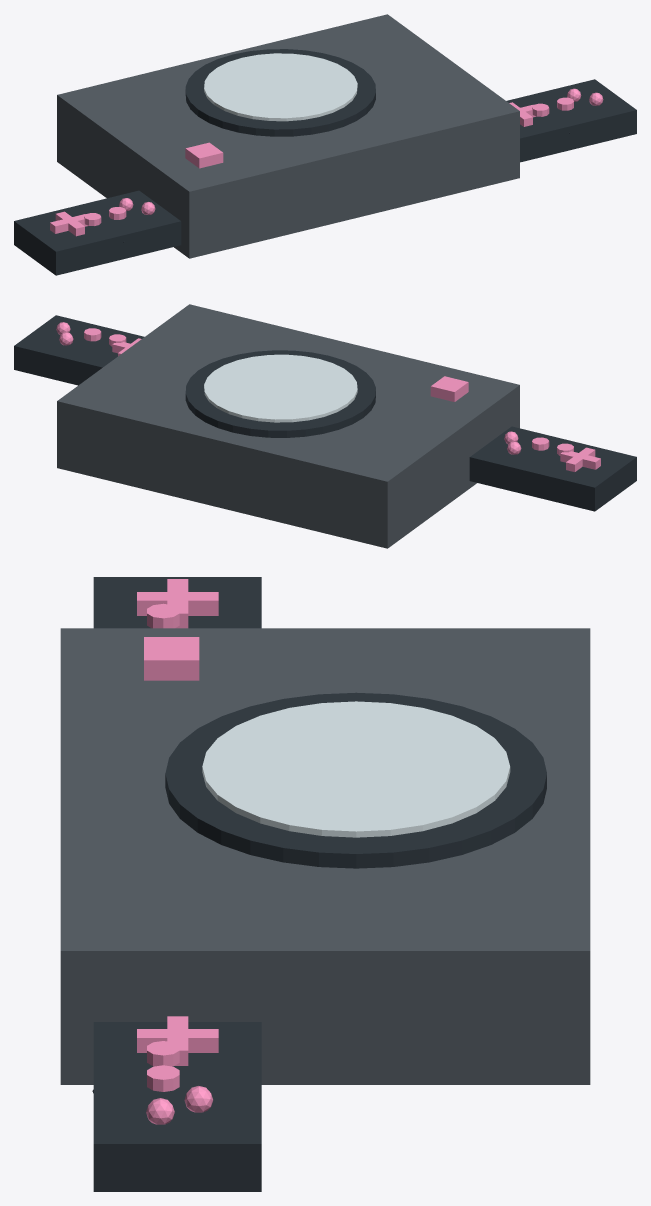
File: disc-console-lod0.glb
3 views of the same model, one above another, from view 1: azimuth 30°, elevation 25°; view 2: azimuth 150°, elevation 25°; view 3: azimuth 270°, elevation 25° (orthographic). The views are drawn at different scales.
Parts seen in each view (by area): view 1: console, disc, controller_0_body, controller_1_body, disc_lid, power; view 2: console, disc, controller_0_body, disc_lid, controller_1_body, power, controller_0_dpad_h; view 3: console, disc, controller_1_body, disc_lid, controller_0_body, power, controller_1_dpad_v, controller_0_dpad_v.
Boxes of the visible parts, x1,y1,x2,y2 form: console: (57,14,519,258); disc: (204,53,357,121); controller_0_body: (14,190,181,275); controller_1_body: (506,79,636,162); disc_lid: (185,49,375,136); power: (185,142,223,168); console: (57,304,519,548); disc: (204,354,357,422); controller_0_body: (469,426,636,511); disc_lid: (185,350,375,437); controller_1_body: (14,315,144,385); power: (430,376,468,401); controller_0_dpad_h: (560,451,600,469); console: (60,628,590,1084); disc: (202,701,510,837); controller_1_body: (93,1022,261,1191); disc_lid: (165,692,546,868); controller_0_body: (93,577,261,628); power: (144,637,199,680); controller_1_dpad_v: (137,1029,218,1052); controller_0_dpad_v: (137,592,218,615).
Bounding box in the file's own units: 10.9 × 1.41 × 4.3.
